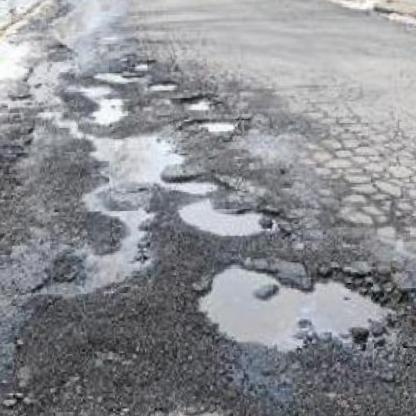pothole: (190, 254, 397, 352), (174, 191, 282, 234), (190, 113, 247, 135), (161, 401, 236, 416), (163, 173, 218, 191), (178, 90, 217, 112), (145, 76, 179, 90)
